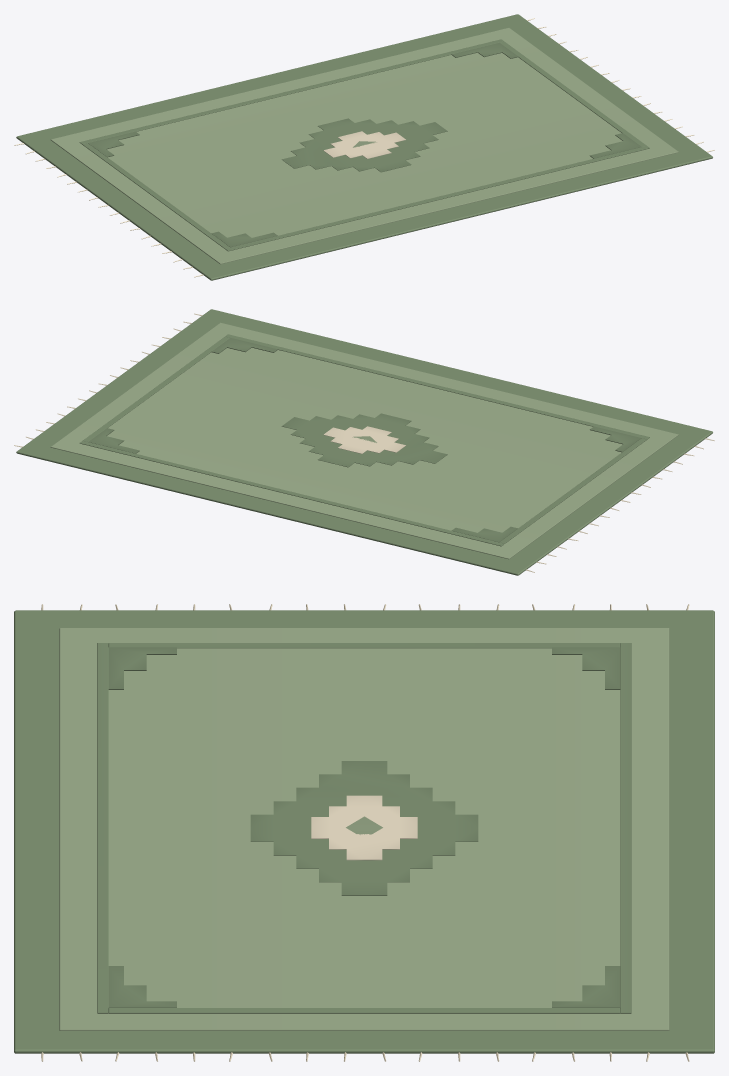
Rendered from rugLarge.glb.
The picture shows the model from 3 angles, top to bottom: view 1: azimuth 30°, elevation 25°; view 2: azimuth 150°, elevation 25°; view 3: azimuth 270°, elevation 25°; orthographic projection. The views are drawn at different scales.
Visible parts, largest first — view 1: rugLarge; view 2: rugLarge; view 3: rugLarge.
Part boxes in pixels (bbox=[...]): rugLarge: bbox=[14, 14, 714, 280]; rugLarge: bbox=[14, 309, 714, 575]; rugLarge: bbox=[14, 604, 714, 1061].
Bounding box in the file's own units: 2.85 × 0.019 × 1.85.
